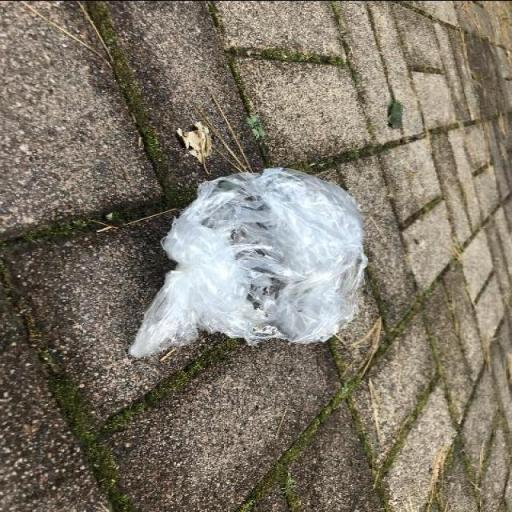plastic-bag: (119, 166, 365, 360)
